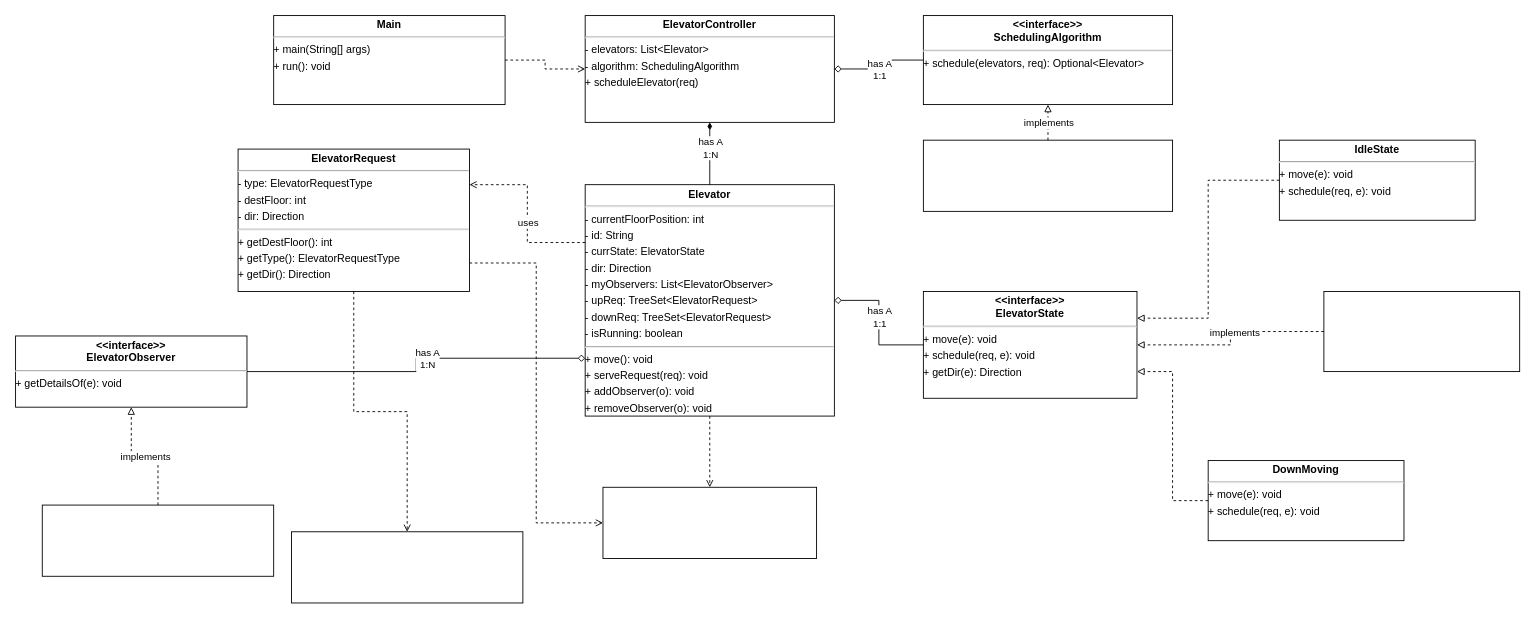
Image size: 1535x619. Some labels were removed from this diagram. Here are the shapes that lost their labels. From the top down, the centre of each, then its label:
(x=1047, y=175): NearestElevator + schedule(elevators, req): Optional<Elevator>
(x=1421, y=331): UpMoving + move(e): void + schedule(req, e): void
(x=157, y=540): Display + getDetailsOf(e): void
(x=709, y=522): <<enum>> Direction UP, DOWN, IDLE
(x=407, y=567): <<enum>> ElevatorRequestType INTERNAL, EXTERNAL
